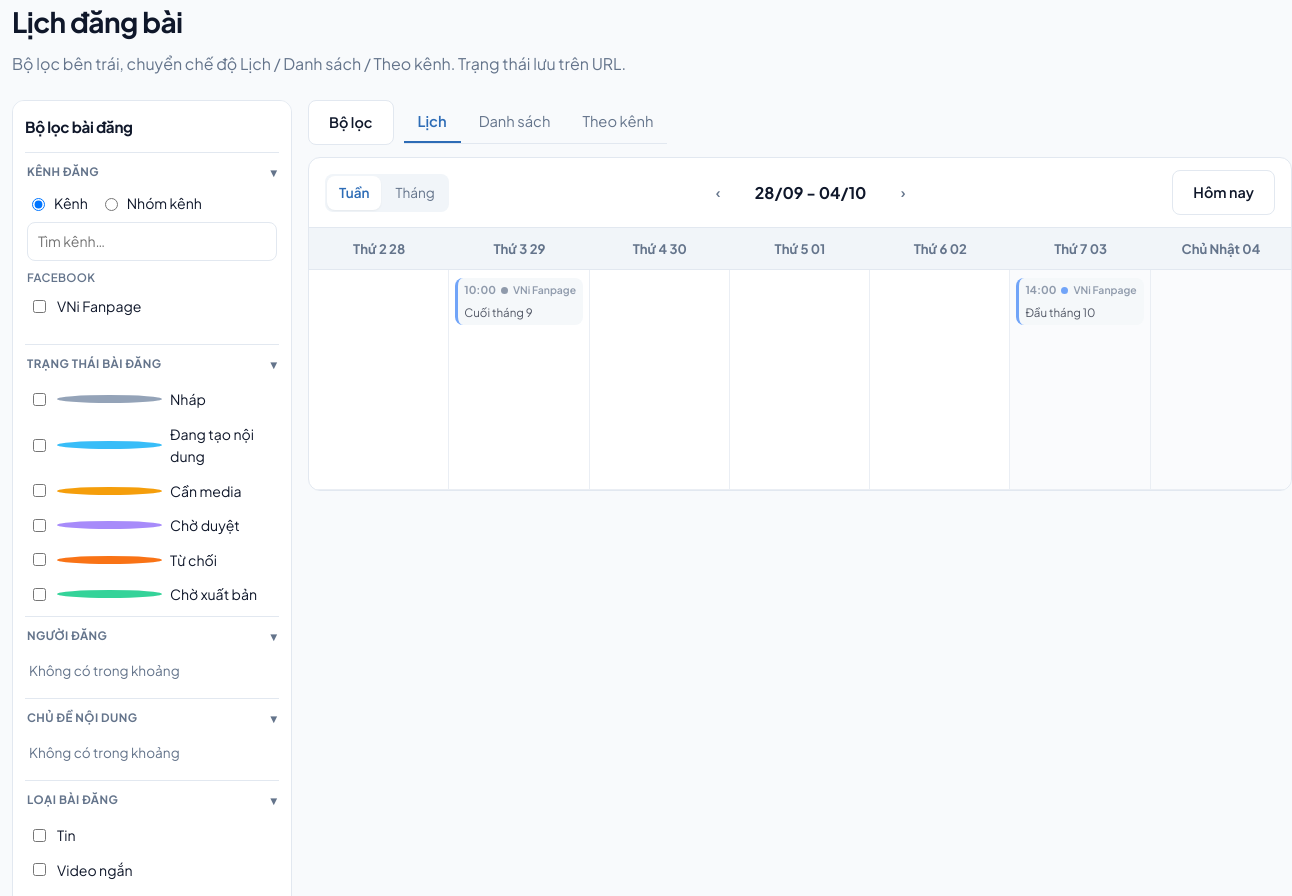
PostCalendar density/week trên URL — AC e90862c2 (calendar-week-url-test) › (b) ‹ › cập nhật week trên URL; tuần vắt tháng hiện đủ bài 7 ngày
expect the element with test id "week-view" is shown: met, box x1=309 y1=228 x2=1291 y2=490
expect the text with test id "week-range-label" reads "28/09 - 04/10": met, box x1=755 y1=182 x2=866 y2=203
Step 1. Click the button named "Tuần sau" → [903, 193], box x1=880 y1=170 x2=927 y2=215
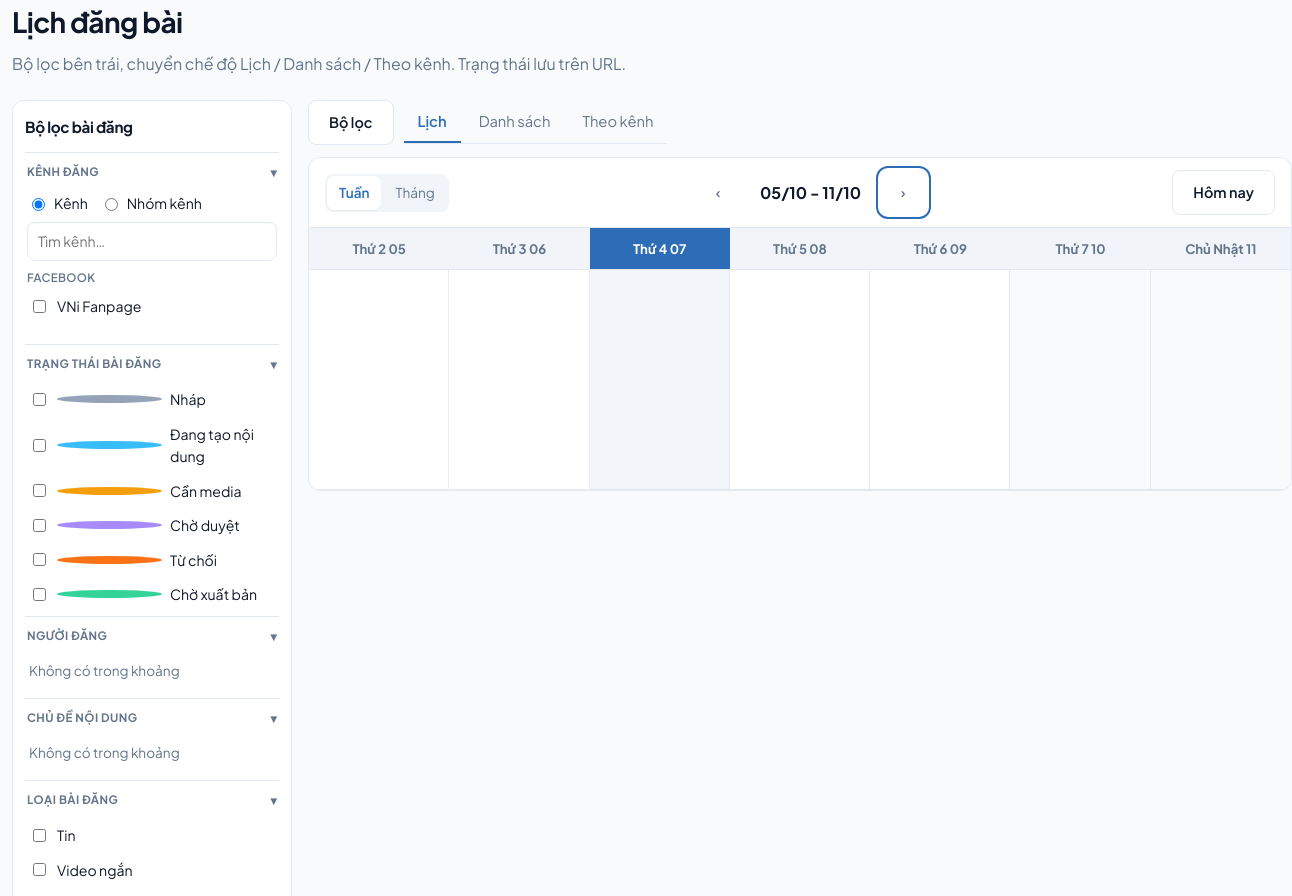
expect the text with test id "week-range-label" reads "05/10 - 11/10": met, box x1=760 y1=182 x2=861 y2=203
